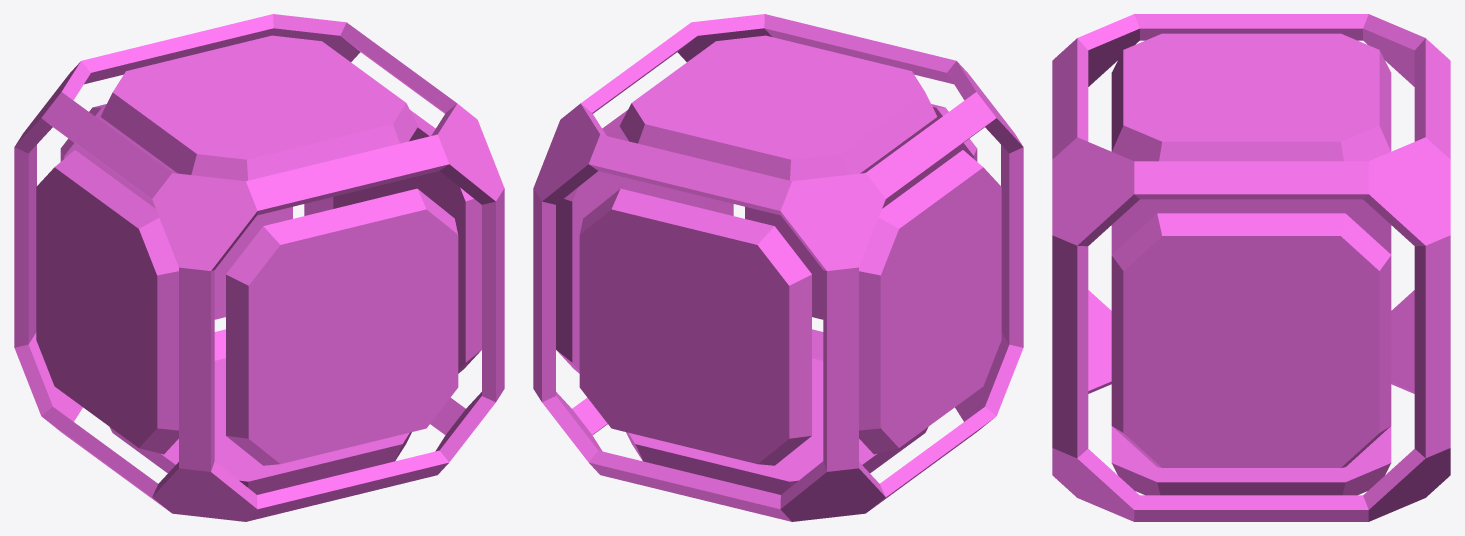
Rendered from Exit.FBX.
3 renders of one model, left to right at view 1: azimuth 30°, elevation 25°; view 2: azimuth 150°, elevation 25°; view 3: azimuth 270°, elevation 25°, orthographic. The views are drawn at different scales.
Parts seen in each view (by area): view 1: boxMetal02; view 2: boxMetal02; view 3: boxMetal02.
Boxes of the visible parts, x1,y1,x2,y2 form: boxMetal02: (14, 14, 504, 521); boxMetal02: (533, 14, 1023, 521); boxMetal02: (1052, 14, 1450, 521).
Size of the model in its own units: 100 by 100 by 100.
